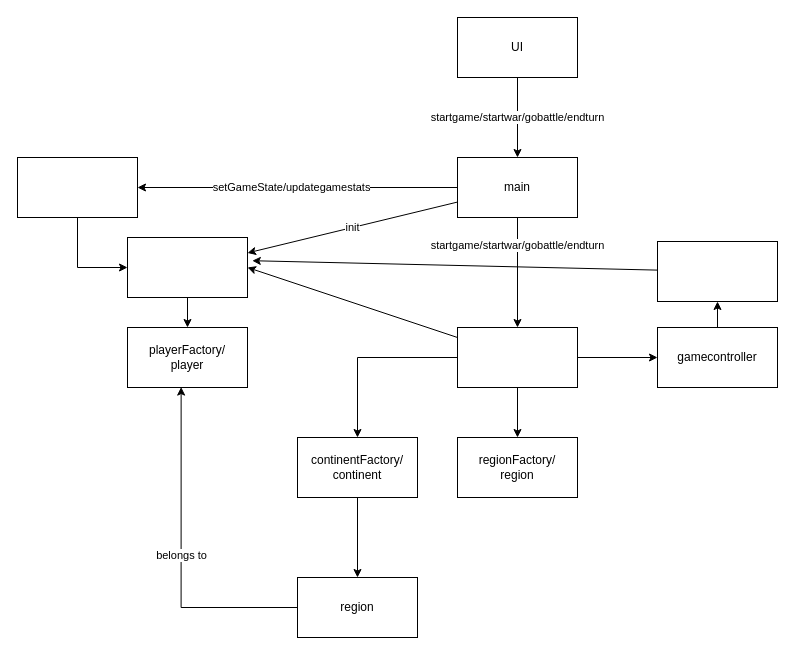
The diagram is 795 pixels wide and 655 high, and some of its shapes have lost their labels. The shapes that lost their labels are listed below. From the top down, each one's centre as x and y in pixels, then its label:
At point (77, 187): "gamestate".
At point (187, 267): "gameplayers".
At point (717, 271): "playerstats".
At point (517, 357): "gameboard".
